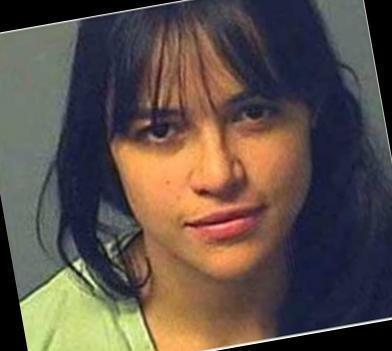Drunk: (113, 35, 310, 277)
